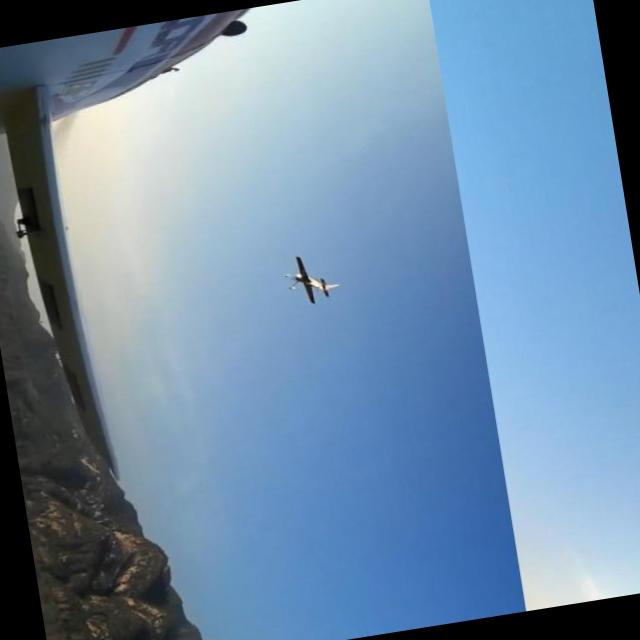UAV: (232, 200, 362, 330)
